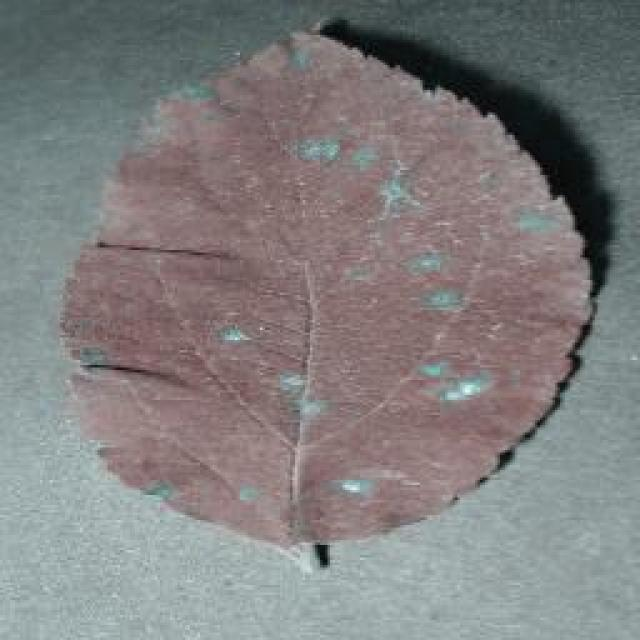apple rust disease: (55, 20, 597, 570)
